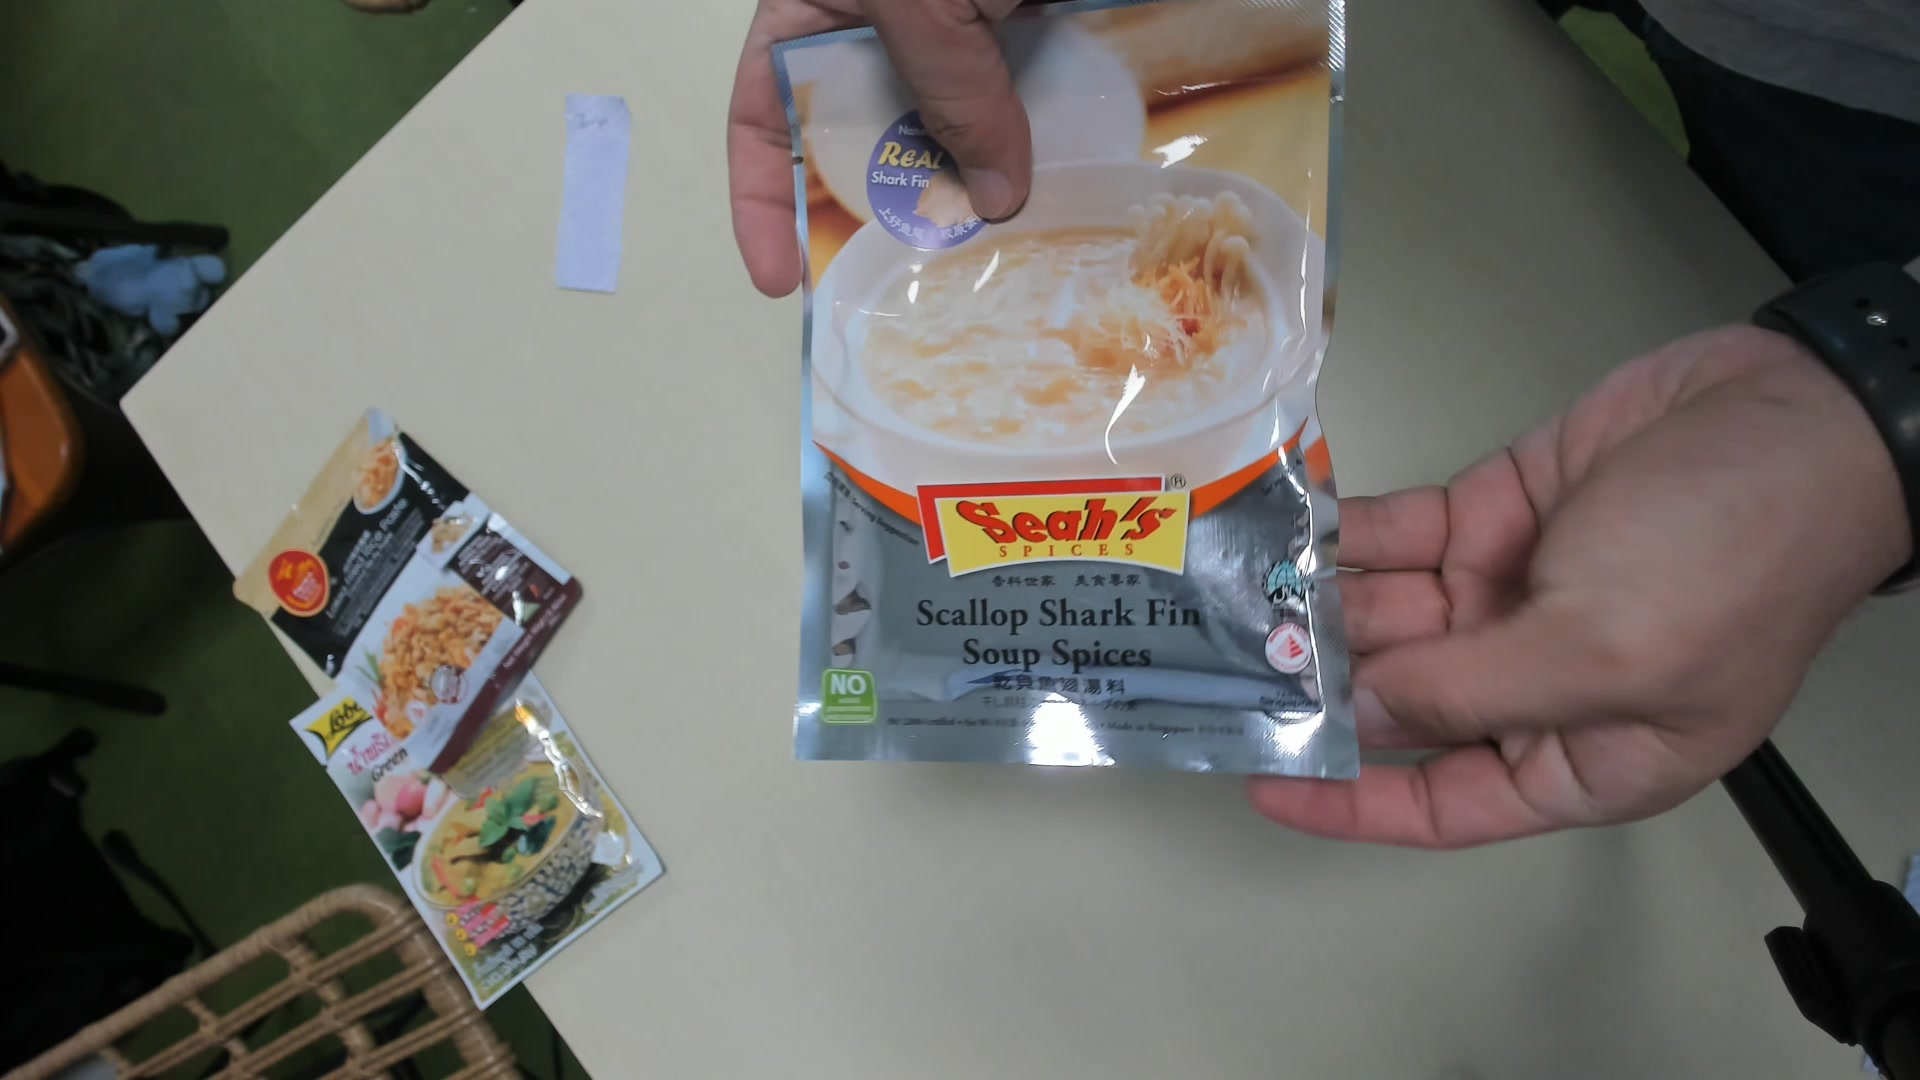OtherSauceDressing_0-99g_Halal_NonHealthy: (775, 15, 1358, 781)
